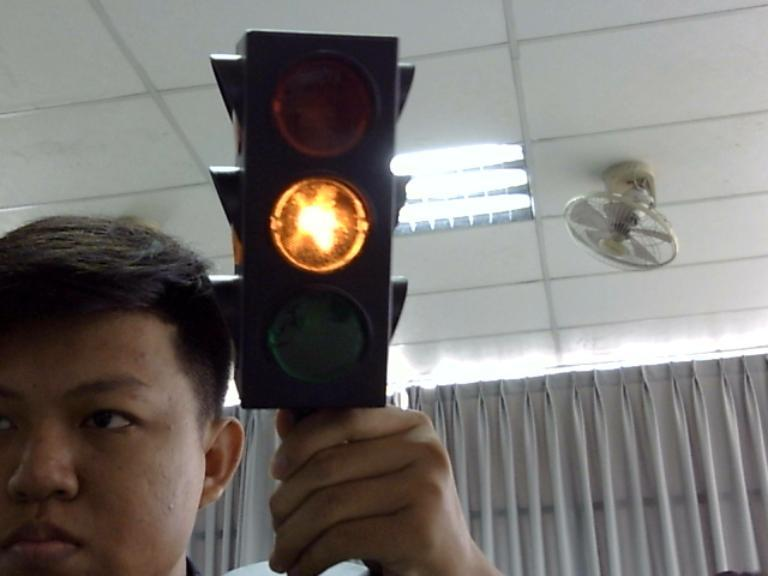yellow: (252, 161, 388, 279)
